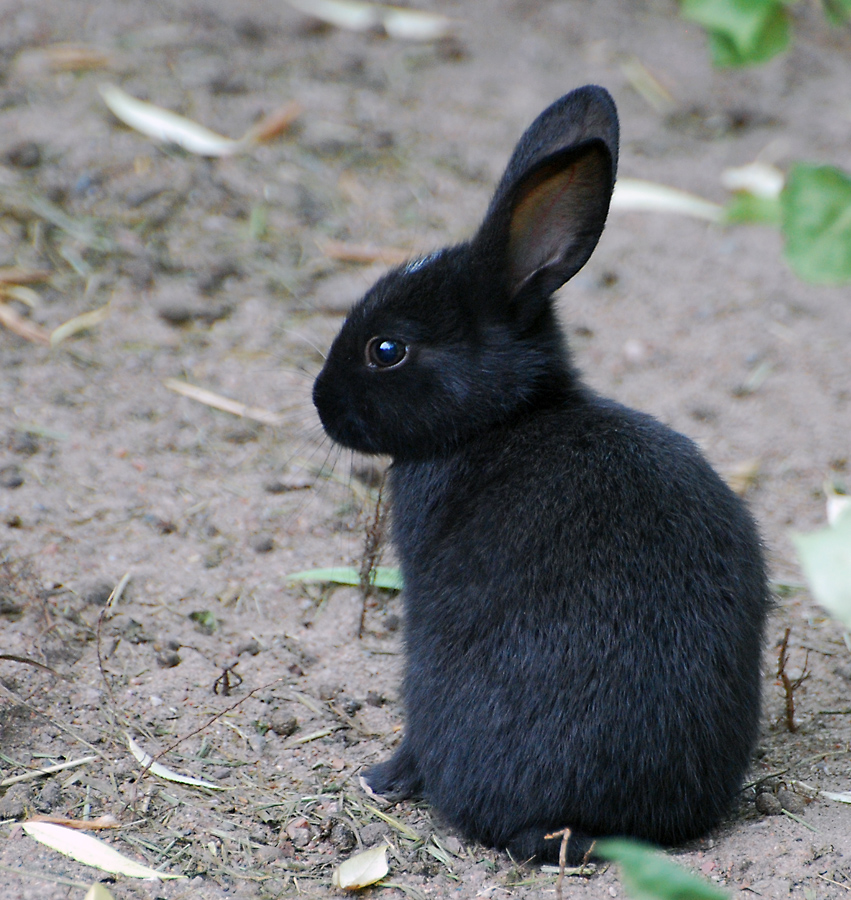bunny: (281, 79, 799, 872)
